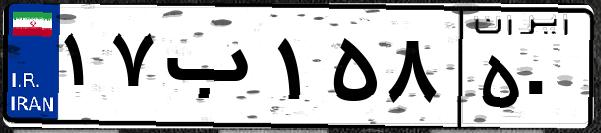0: (525, 38, 570, 115)
1: (270, 28, 330, 110), (57, 26, 110, 100)
5: (330, 28, 385, 110), (475, 38, 525, 113)
7: (110, 28, 158, 98)
8: (385, 28, 445, 110)
ب: (158, 20, 270, 120)
